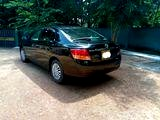car: (19, 26, 122, 83)
